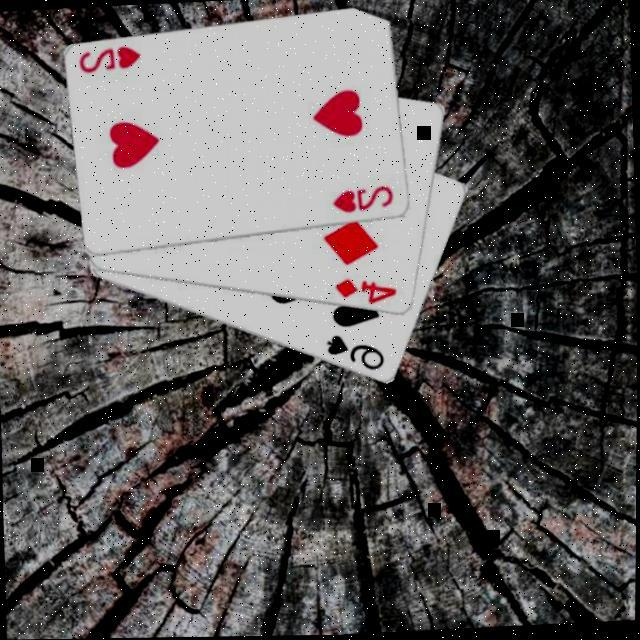2H: (328, 186, 396, 220), (75, 44, 143, 78)
4D: (332, 276, 399, 310)
9S: (322, 332, 387, 379)
